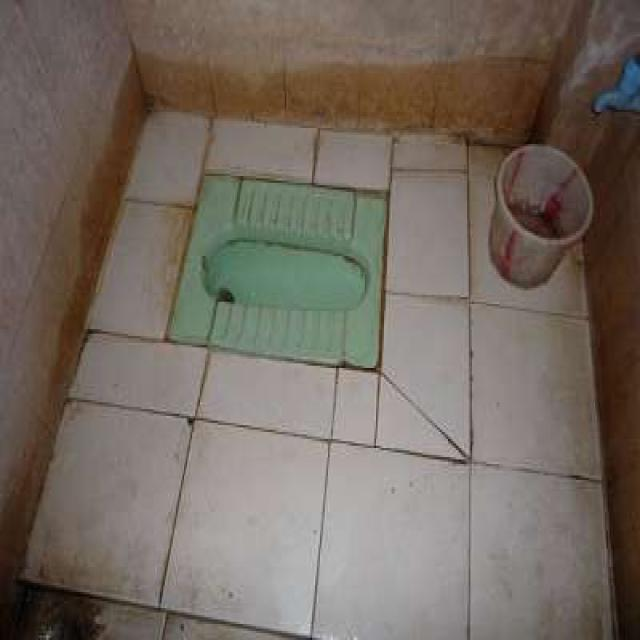damage: (487, 142, 595, 290)
dirty_floor: (15, 109, 618, 637), (164, 170, 390, 370), (132, 47, 556, 144)
